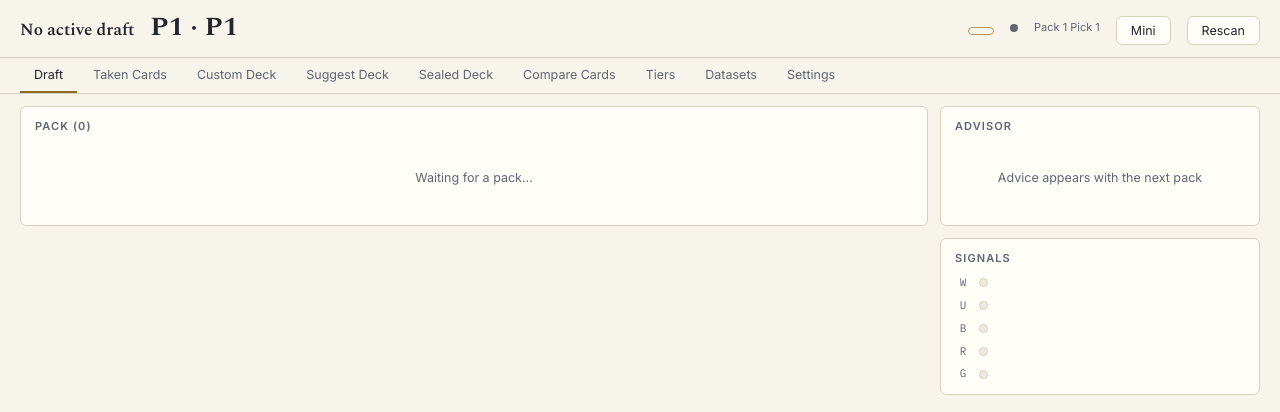
Scenario: Sealed tab gating › shows the Sealed tab and renders the page for a Sealed draft
The width and height of the screenshot is (1280, 412).
Expected: the navigation bar is shown, [0,58,1279,94]
Click the button "Sealed Deck": {"x": 456, "y": 75} [405,58,507,93]
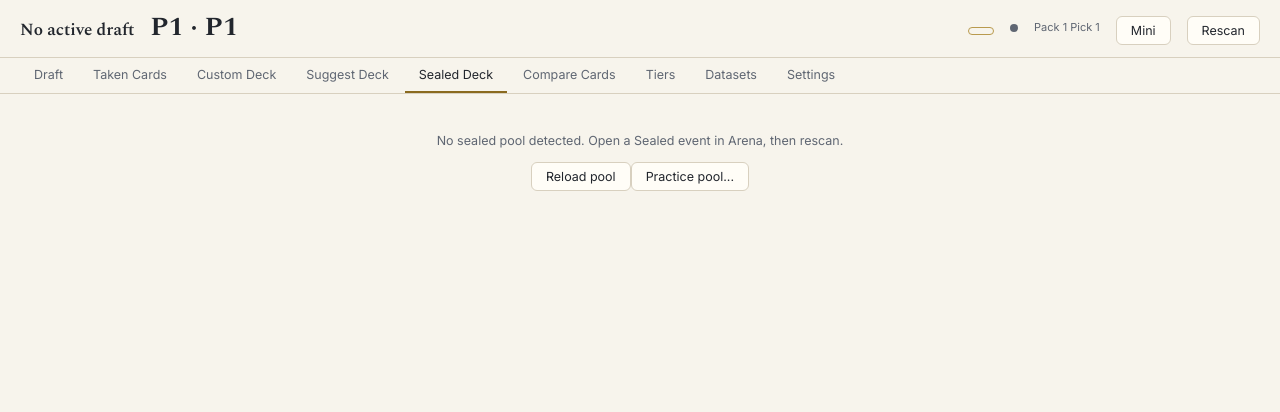
Now the button "Reload pool" is shown, box [531,162,631,191]
